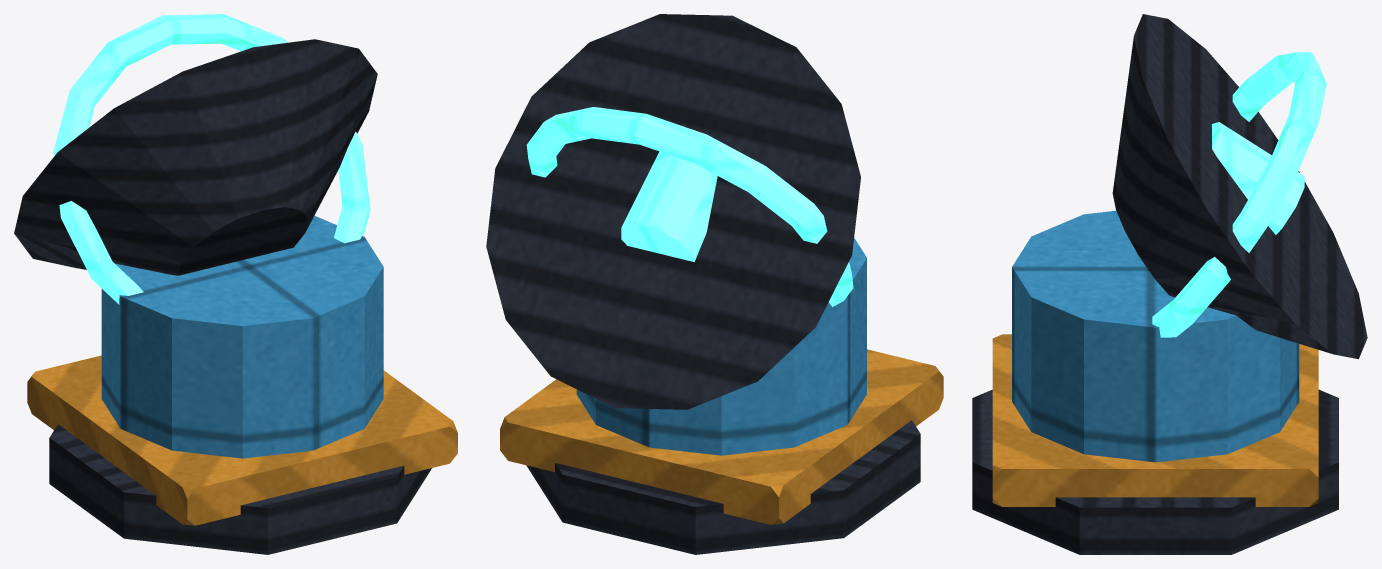
File: eq_magnet_advanced.glb
The picture shows the model from 3 angles, left to right: view 1: azimuth 30°, elevation 25°; view 2: azimuth 150°, elevation 25°; view 3: azimuth 270°, elevation 25°; orthographic projection. The views are drawn at different scales.
Visible parts, largest first — view 1: eq_magnet_advanced; view 2: eq_magnet_advanced; view 3: eq_magnet_advanced.
Part boxes in pixels (x1,y1,x2,y2): eq_magnet_advanced: (14,14,457,554); eq_magnet_advanced: (486,14,943,554); eq_magnet_advanced: (972,14,1367,554).
Bounding box in the file's own units: 1.56 × 1.87 × 1.51.
Materials: 1 (1 with a texture image).
